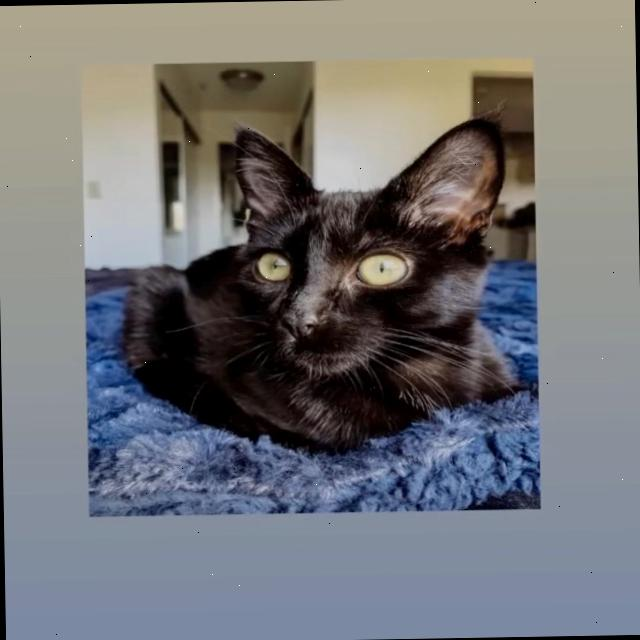bombay_cat: (212, 100, 515, 389)
